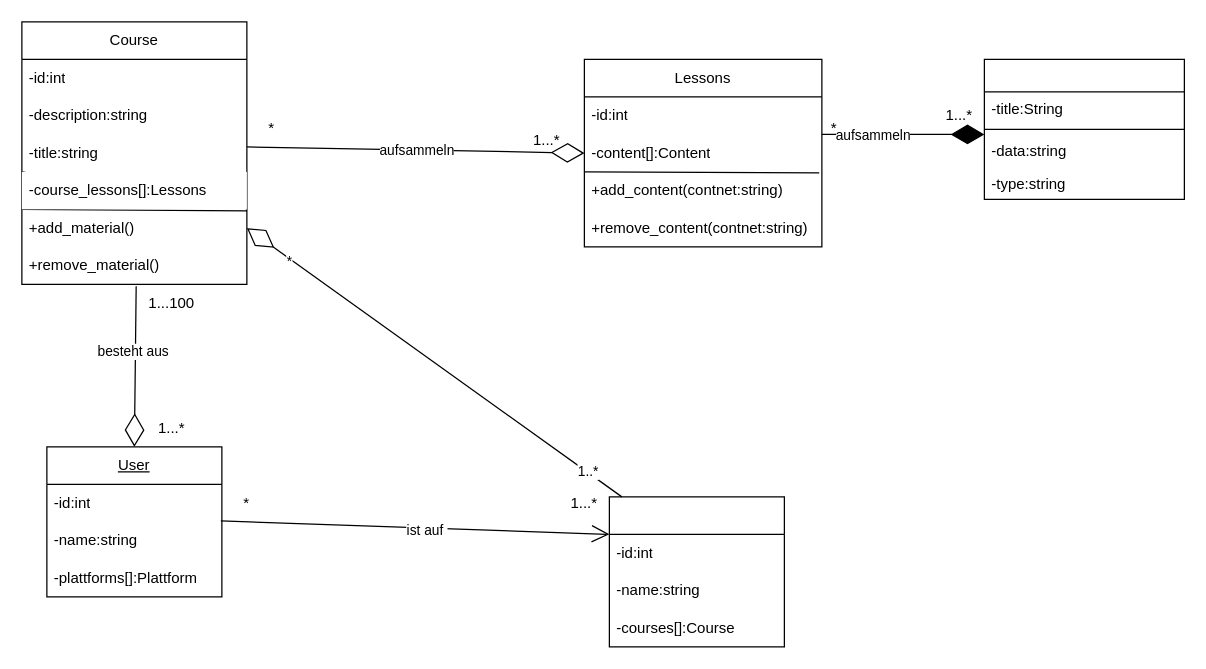
The diagram is 1206 pixels wide and 669 high, and some of its shapes have lost their labels. The box of each missing label's shape, as (x1, y1, x2, y2) in pixels:
Content: (983, 58, 1184, 199)
Plattform: (608, 496, 784, 647)
